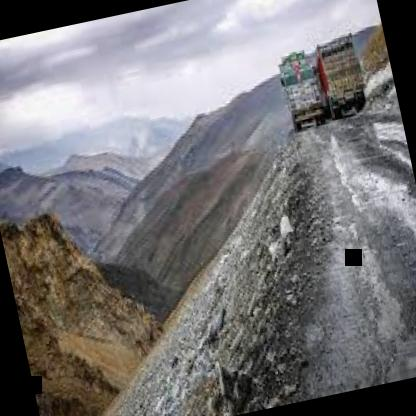car: (310, 22, 376, 126), (262, 41, 330, 126)
